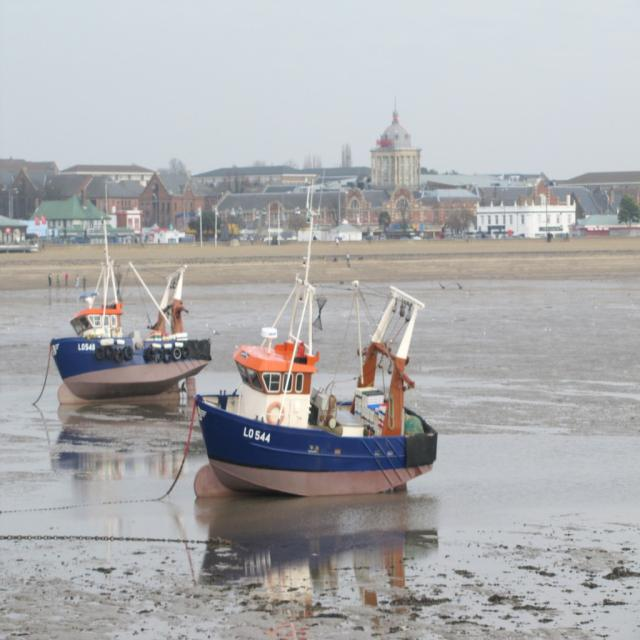Boat: (193, 172, 440, 498), (49, 220, 212, 402)
